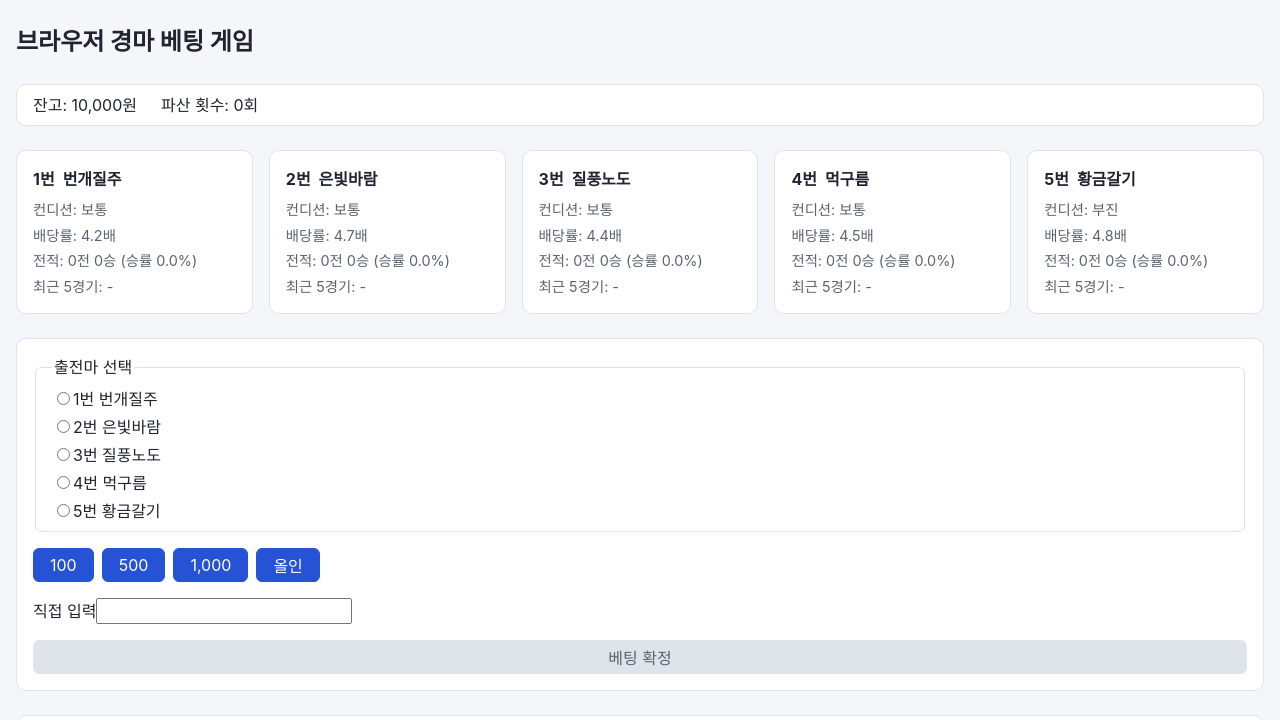
Test: App › T18 이월 메모 해소: BetPanel 실마운트 시 미입력·소수 입력 경로 › 직접 입력에 소수를 입력하면 정수 아님 사유가 노출된다
Click the radio button labelled "1번 번개질주" at (64, 399), box [57,392,70,405]
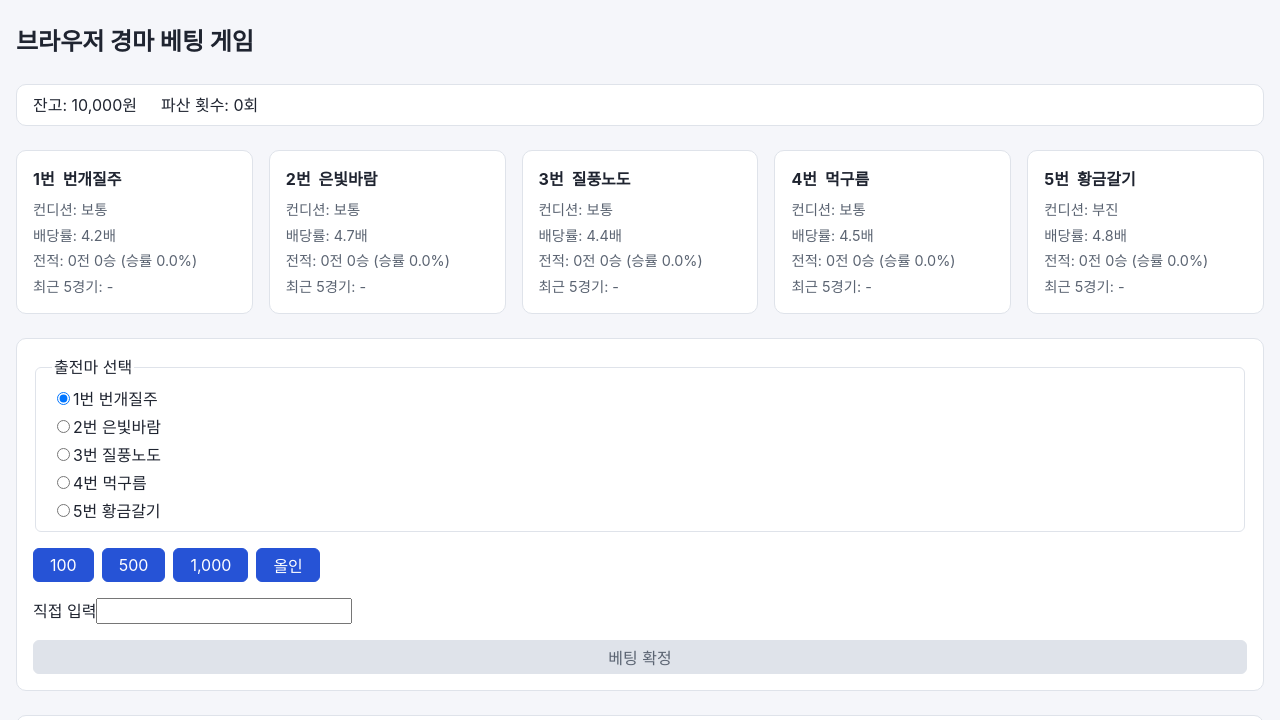
Type "100.5" into the number field labelled "직접 입력" at (224, 611), box [96,598,352,624]
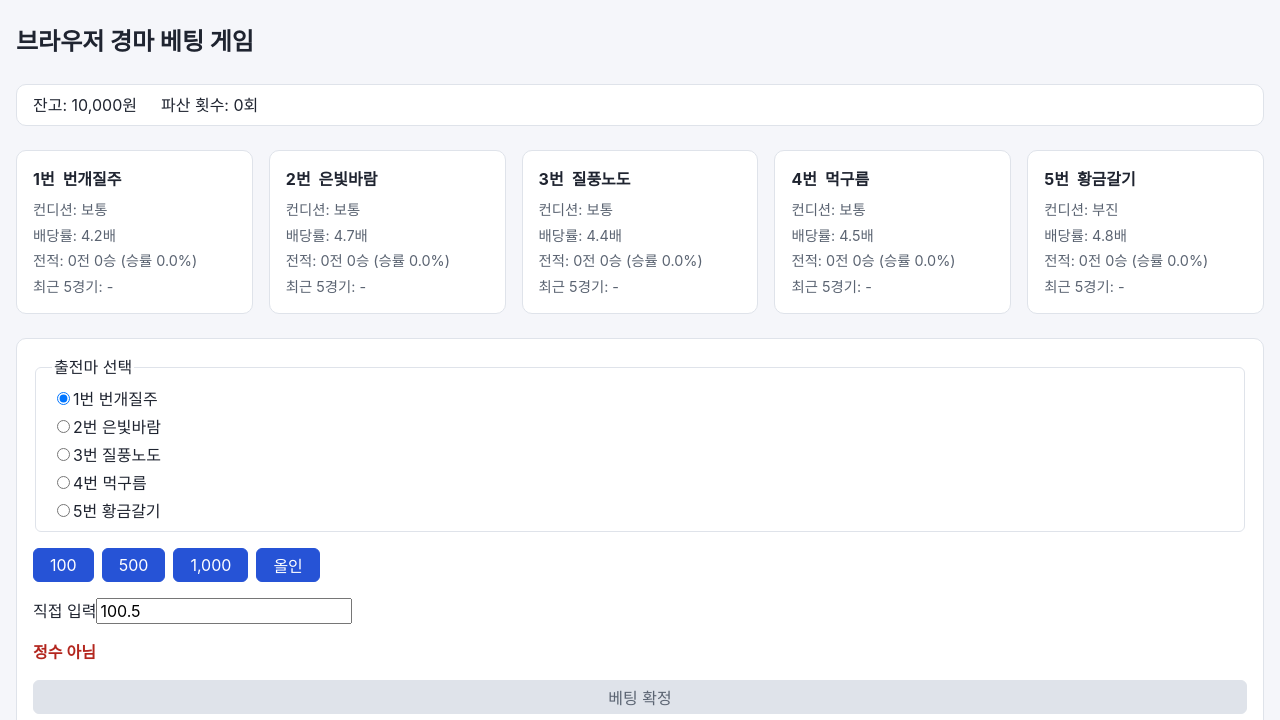
Now the message reads "정수 아님", box [33,642,96,662]
